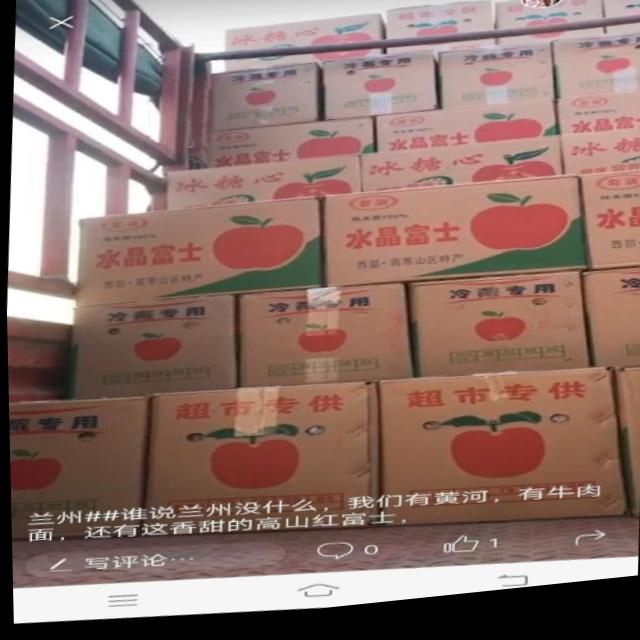box: (376, 379, 625, 534), (137, 388, 377, 538), (321, 186, 588, 293), (73, 203, 323, 309), (7, 397, 149, 540), (407, 283, 590, 387), (235, 291, 414, 392), (70, 300, 235, 400), (356, 147, 562, 199), (166, 161, 361, 214), (375, 111, 558, 160), (320, 59, 440, 128), (208, 124, 376, 172), (437, 53, 554, 119), (208, 69, 322, 136), (579, 183, 640, 284), (579, 281, 640, 380), (551, 44, 640, 110), (223, 21, 386, 56), (612, 377, 640, 529), (385, 10, 493, 47), (496, 4, 604, 39), (558, 141, 640, 186), (556, 103, 640, 146), (224, 57, 385, 77), (388, 50, 496, 70), (499, 40, 604, 57), (600, 0, 640, 31), (605, 36, 640, 46)
